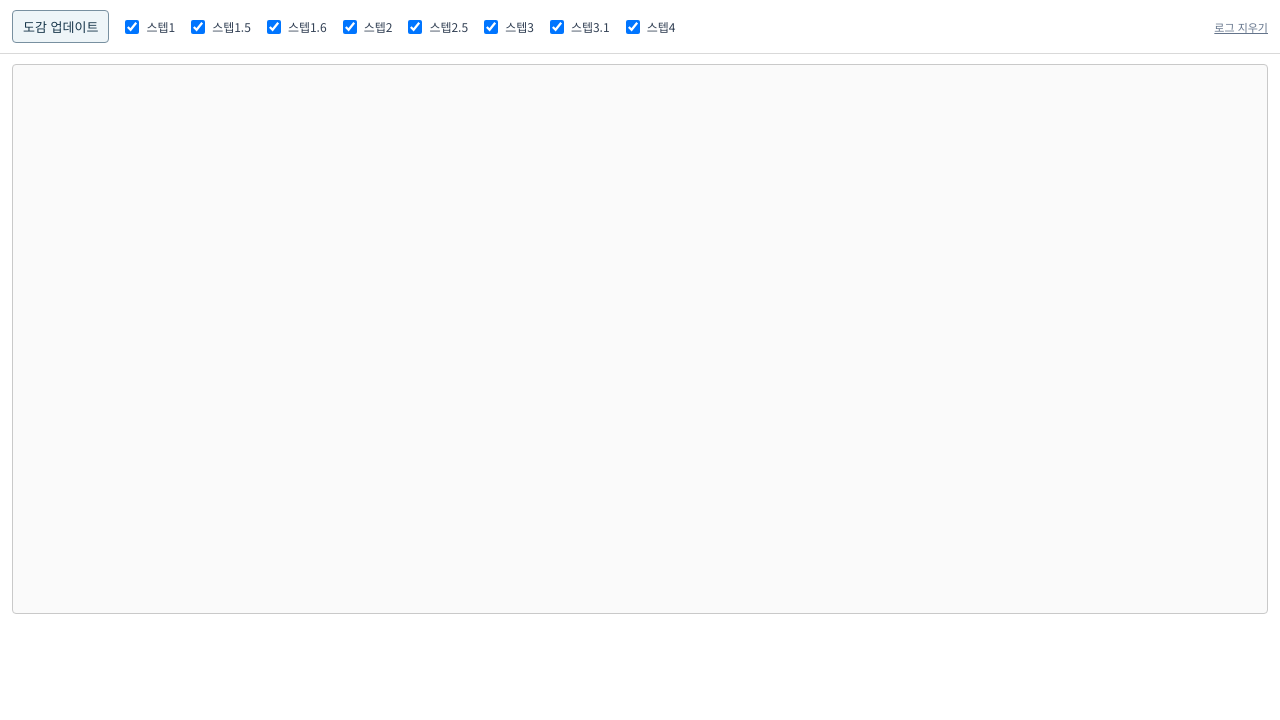
Test: PokedexPage › 선택(기본: 전체)된 스텝을 순서대로 실행하며, 스텝별 파라미터와 결과 로그를 남긴다
This screenshot has width=1280, height=720.
Click the link "도감 업데이트".
click(61, 26)  # box [12,10,109,43]
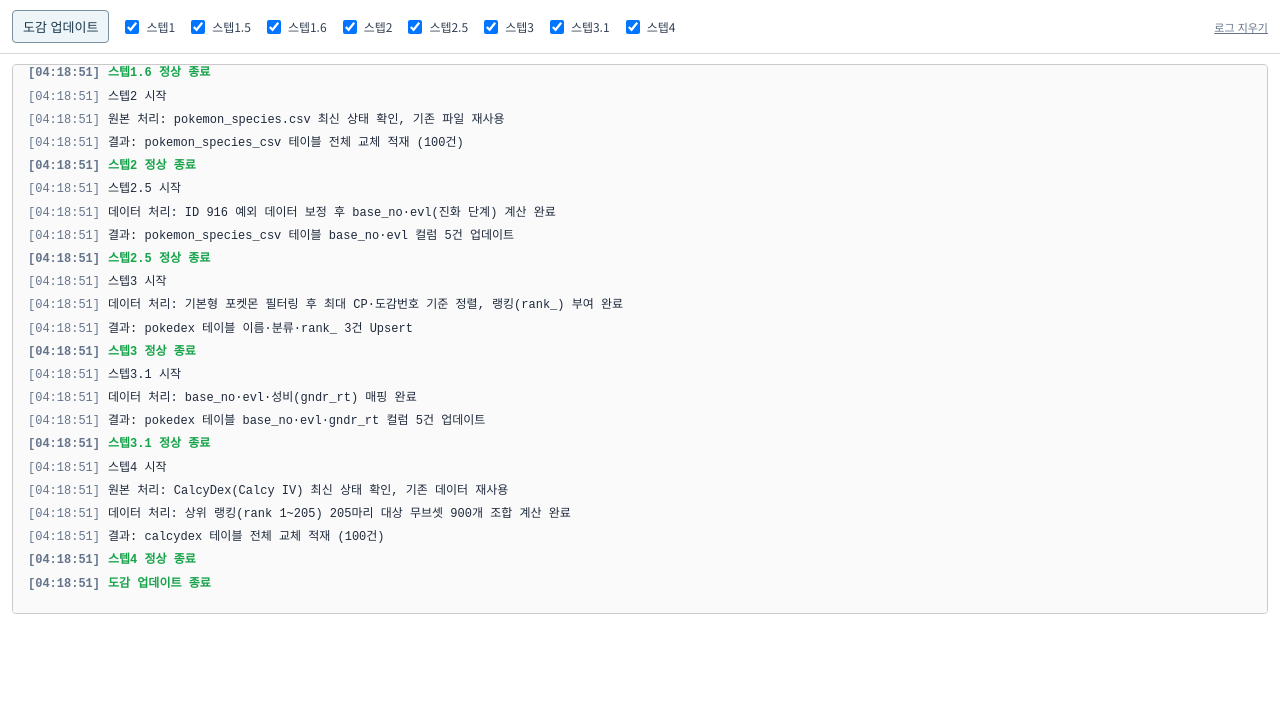
Now the text "[04:18:51]도감 업데이트 종료" is shown, box [28,577,211,591]
Now the text "[04:18:51]스텝4 정상 종료" is shown, box [28,553,196,567]
Now the text "900개" is shown, box [108,507,571,521]
